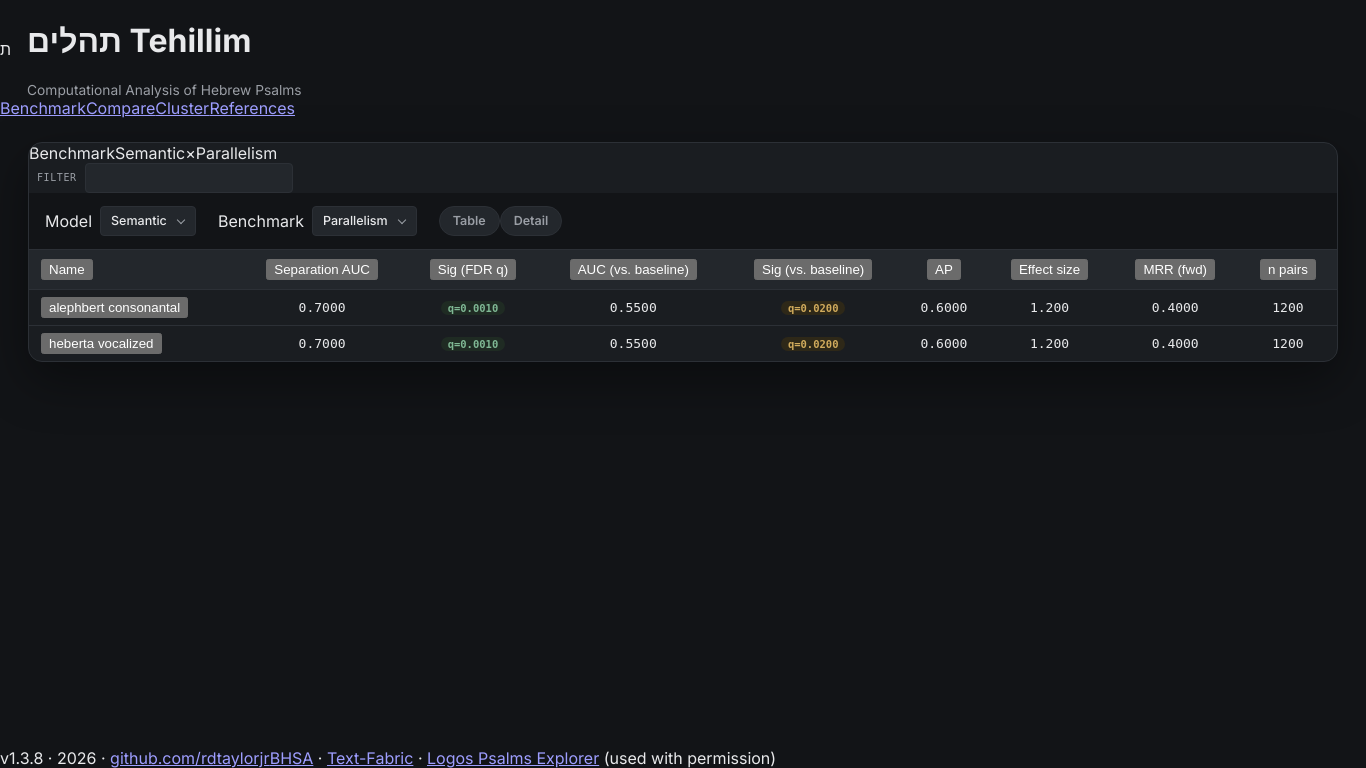
App › keeps one toolbar mounted while the pane beneath it swaps
The width and height of the screenshot is (1366, 768).
Check: the table is shown, box top-left (29, 250), bottom-right (1337, 361)
Click the button "alephbert consonantal" at (115, 307), box top-left (41, 297), bottom-right (188, 318)
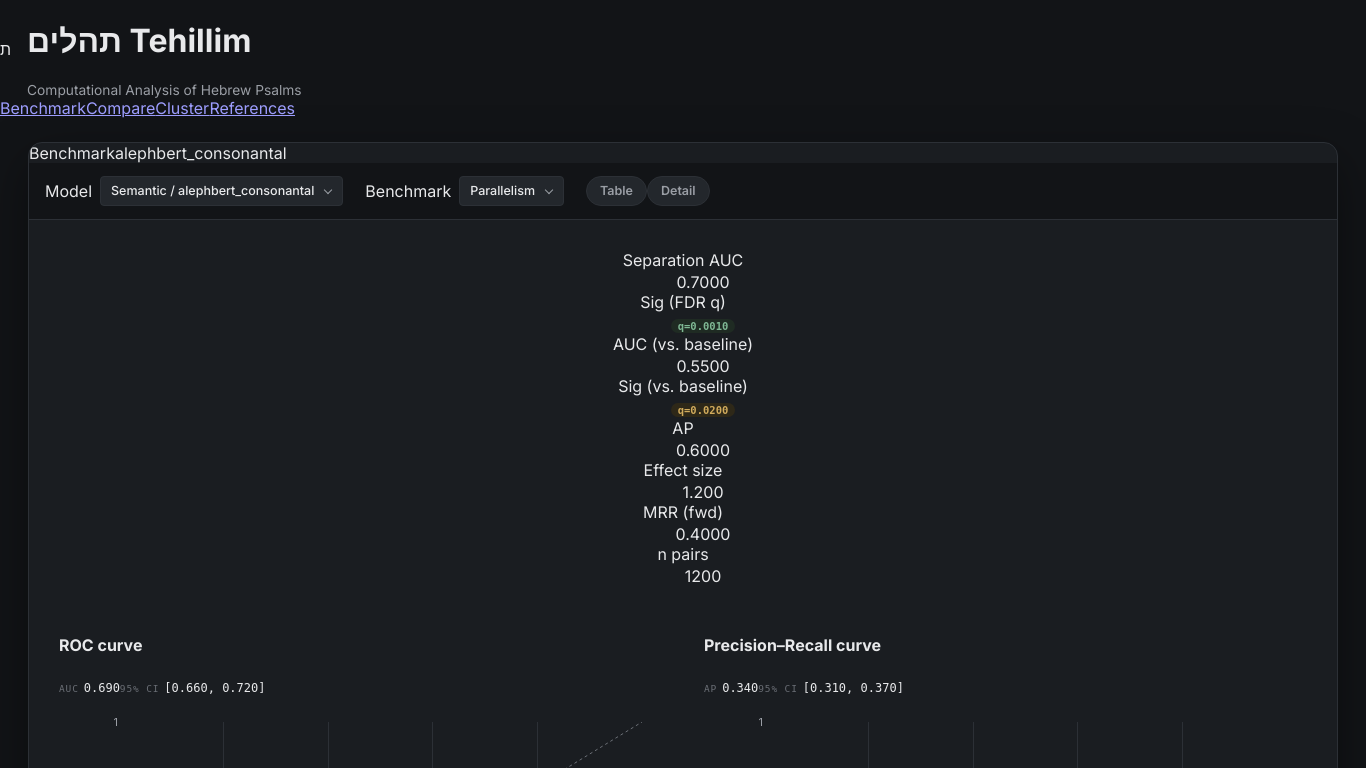
Check: the table is gone
Check: the heading "ROC curve" is shown, box top-left (59, 635), bottom-right (142, 655)
